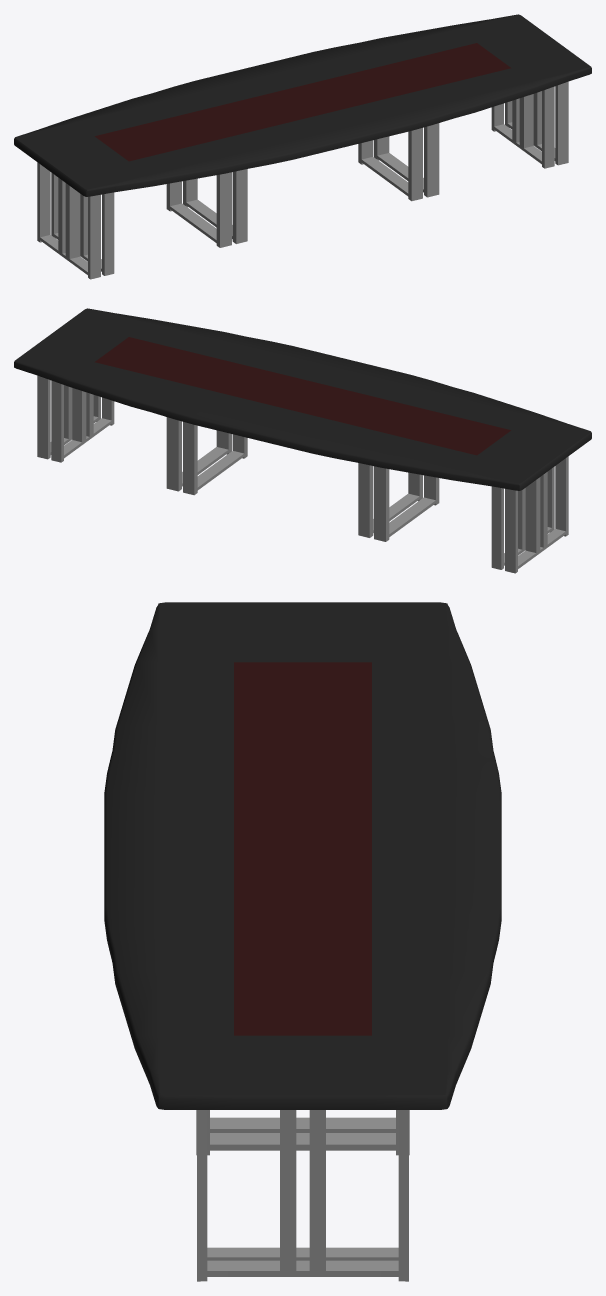
The model's file is P_table_reunion.fbx.
3 renders of one model, top to bottom at view 1: azimuth 30°, elevation 25°; view 2: azimuth 150°, elevation 25°; view 3: azimuth 270°, elevation 25°, orthographic. The views are drawn at different scales.
Parts seen in each view (by area): view 1: table2; view 2: table2; view 3: table2.
Boxes of the visible parts, x1=… form: table2: x1=14, y1=14, x2=591, y2=279; table2: x1=14, y1=308, x2=591, y2=573; table2: x1=104, y1=602, x2=501, y2=1281.
Bounding box in the file's own units: 400 × 75 × 136.
